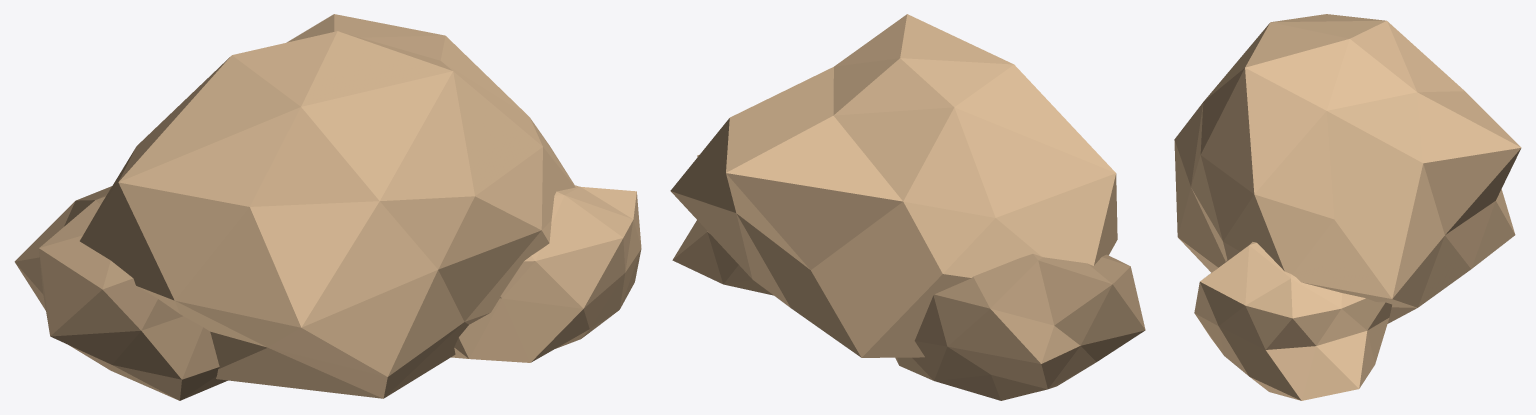
Rendered from t2_rock_full.glb.
3 renders of one model, left to right at view 1: azimuth 30°, elevation 25°; view 2: azimuth 150°, elevation 25°; view 3: azimuth 270°, elevation 25°, orthographic. The views are drawn at different scales.
Parts seen in each view (by area): view 1: CenterRock, LeftRock, RightRock; view 2: CenterRock, LeftRock, RightRock; view 3: CenterRock, RightRock.
Boxes of the visible parts, x1,y1,x2,y2 form: CenterRock: (80,14,575,398); LeftRock: (14,186,227,400); RightRock: (451,185,641,362); CenterRock: (670,14,1117,357); LeftRock: (895,254,1145,400); RightRock: (672,154,773,295); CenterRock: (1174,14,1521,323); RightRock: (1194,242,1391,400).
Size of the model in its own units: 1.55 by 0.8681 by 0.9954.
